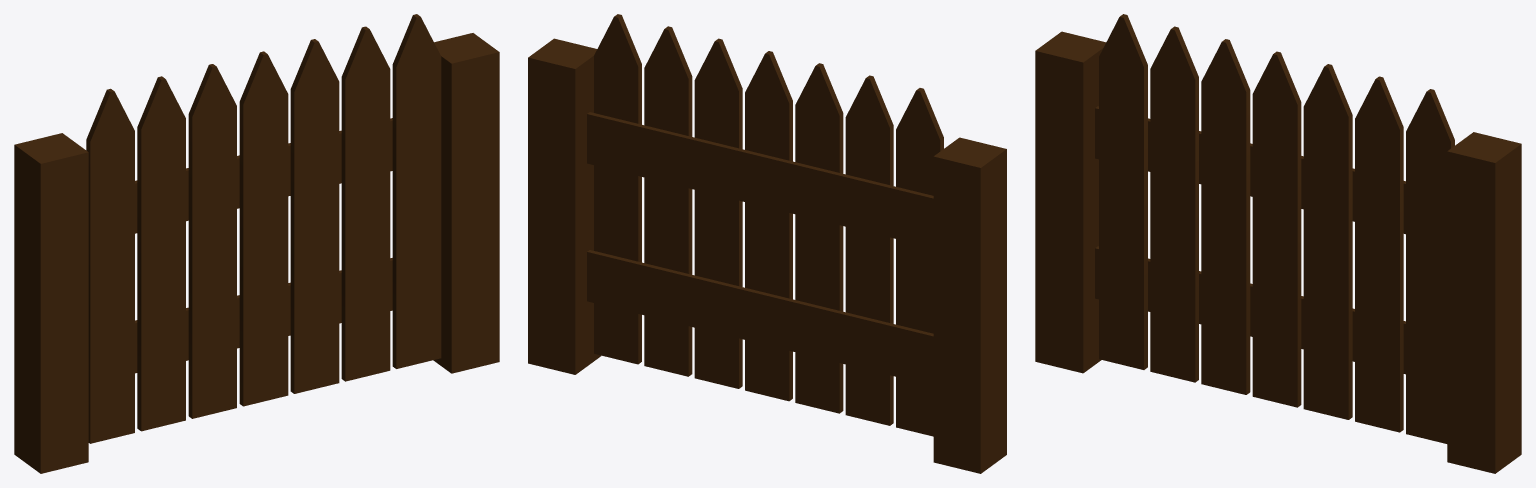
Rendered from Fence_01.fbx.
The picture shows the model from 3 angles, left to right: view 1: azimuth 30°, elevation 25°; view 2: azimuth 150°, elevation 25°; view 3: azimuth 330°, elevation 25°; orthographic projection.
Visible parts, largest first — view 1: Box112; view 2: Box112; view 3: Box112.
Part boxes in pixels (left/top/right/bottom): Box112: left=14, top=14, right=499, bottom=473; Box112: left=528, top=14, right=1006, bottom=473; Box112: left=1035, top=14, right=1521, bottom=473.
Size of the model in its own units: 124 by 92.45 by 12.35.
